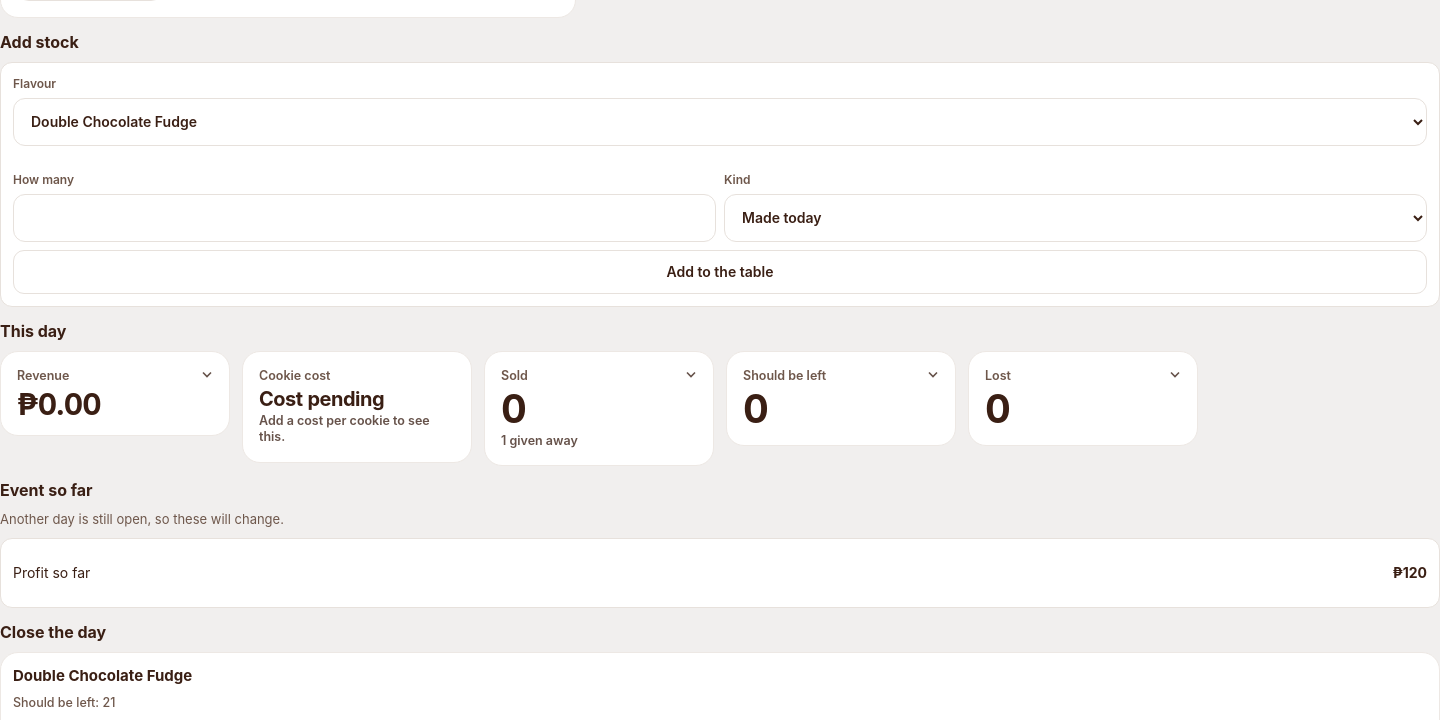
Scenario: the day review › draws the day as stat tiles, each opening to its parts, and the event as figures
The width and height of the screenshot is (1440, 720).
(page scrolled)
expect the text "Revenue" is shown: met, box [17,368,69,383]
expect the text "Cookie cost" is shown: met, box [259,368,330,385]
Click the button "Revenue ₱0.00" at (115,393), box [1,352,229,435]
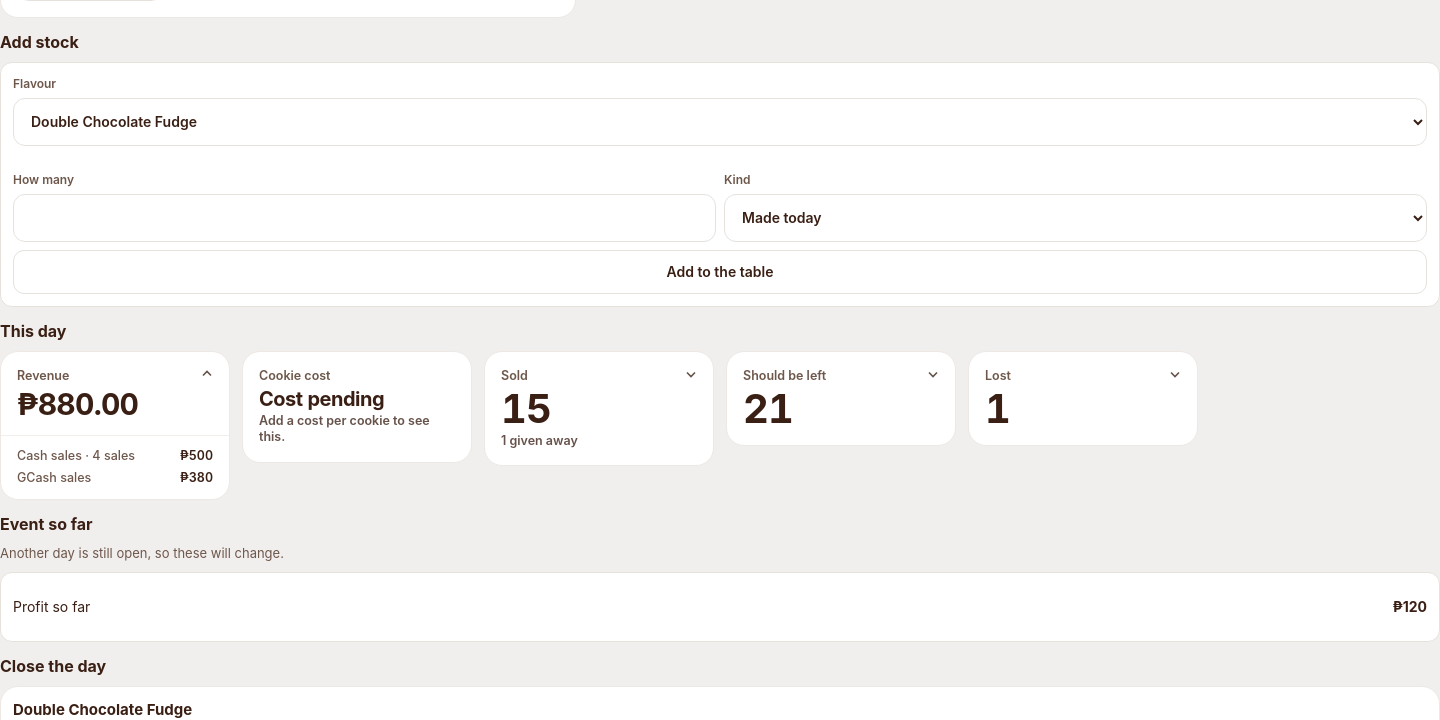
expect the button "Revenue ₱880.00" is expanded: met, box [1,352,229,435]
expect the text "Cash sales · 4 sales" is shown: met, box [17,448,135,464]
expect the text "₱500" is shown: met, box [180,448,213,464]
